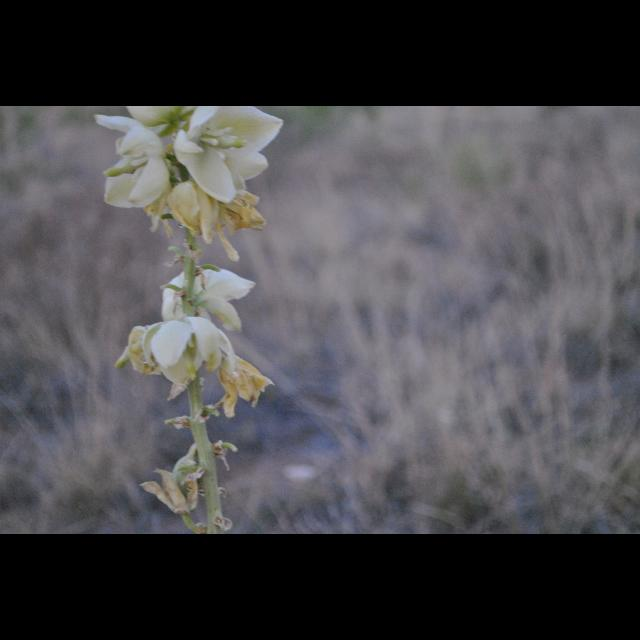Flower: (91, 106, 266, 274)
